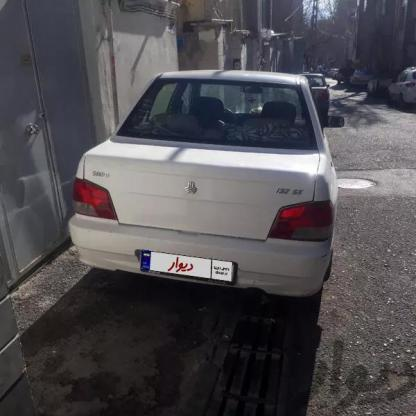Car: (67, 66, 332, 322), (278, 64, 332, 118), (378, 66, 416, 118), (362, 72, 396, 98), (351, 71, 375, 87)
